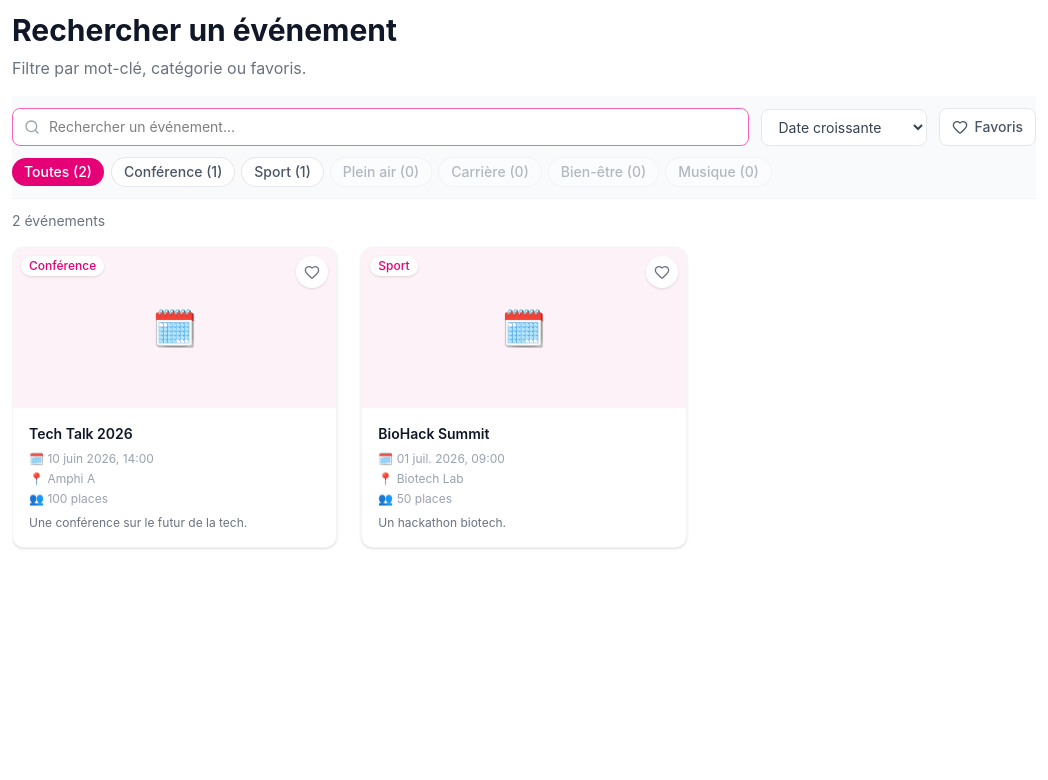
Test: EventsPage › filters the list by category chip
Check: the heading "Tech Talk 2026" is shown, box [29, 425, 133, 442]
Click the button "Sport (1)" at (283, 172), box [242, 158, 323, 186]
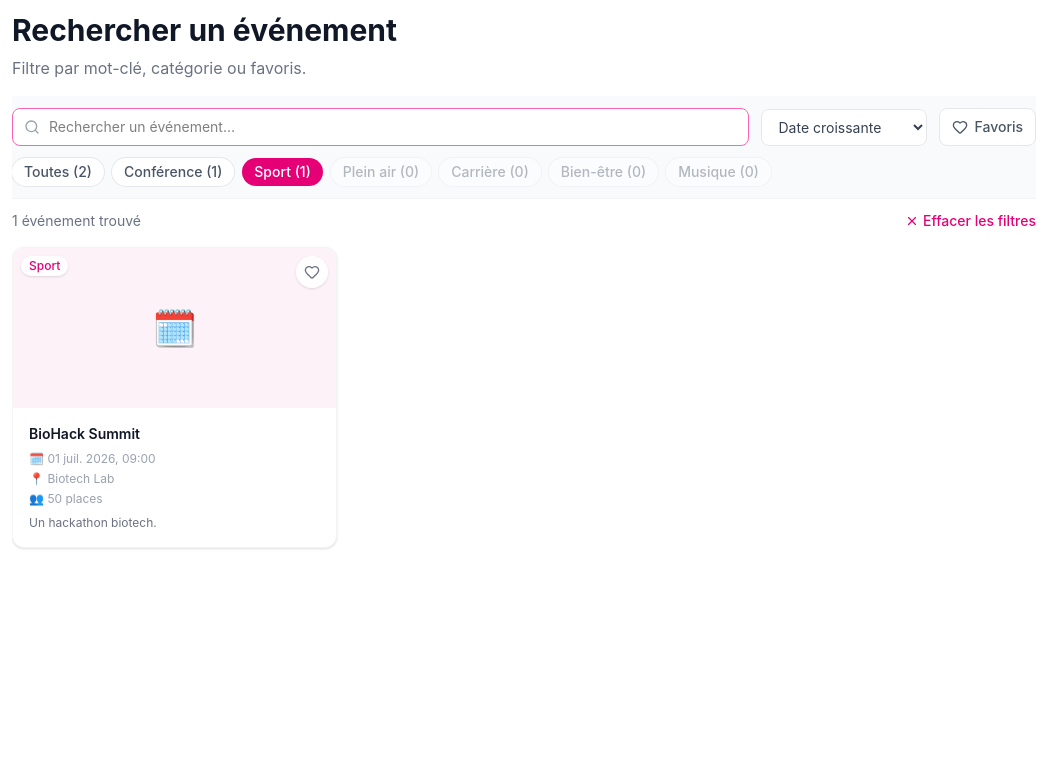
Check: the heading "BioHack Summit" is shown, box [29, 425, 140, 442]
Check: the link "Tech Talk 2026" is gone
